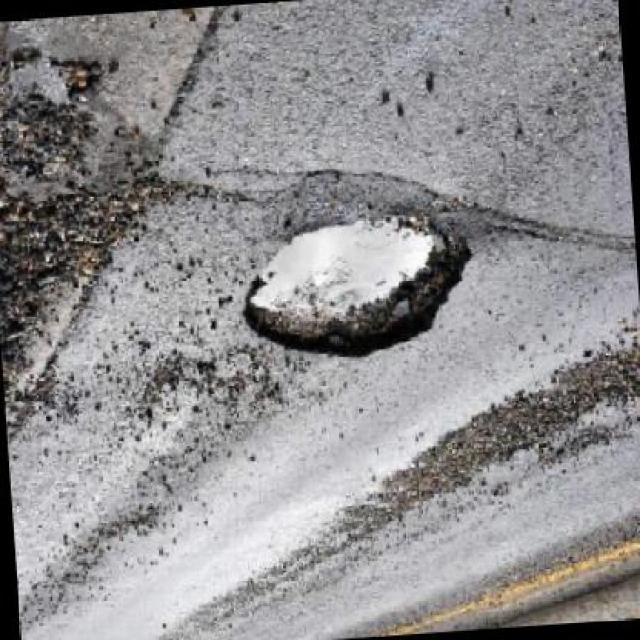pothole: (233, 211, 484, 372)
